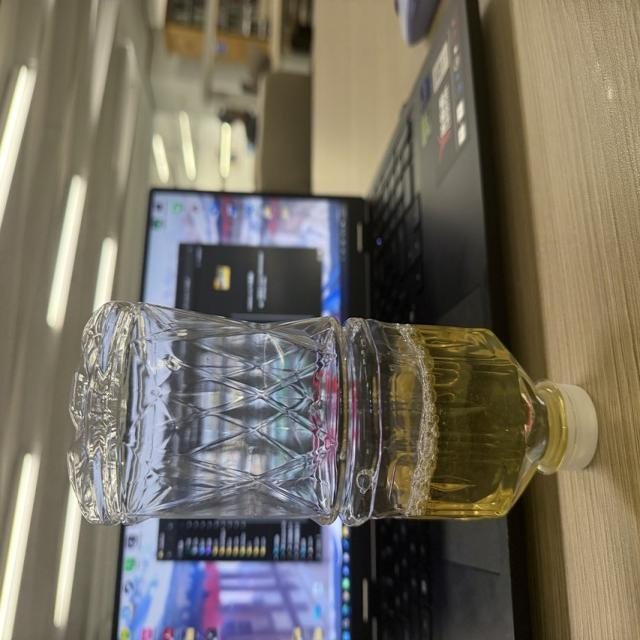low: (68, 302, 596, 525)
